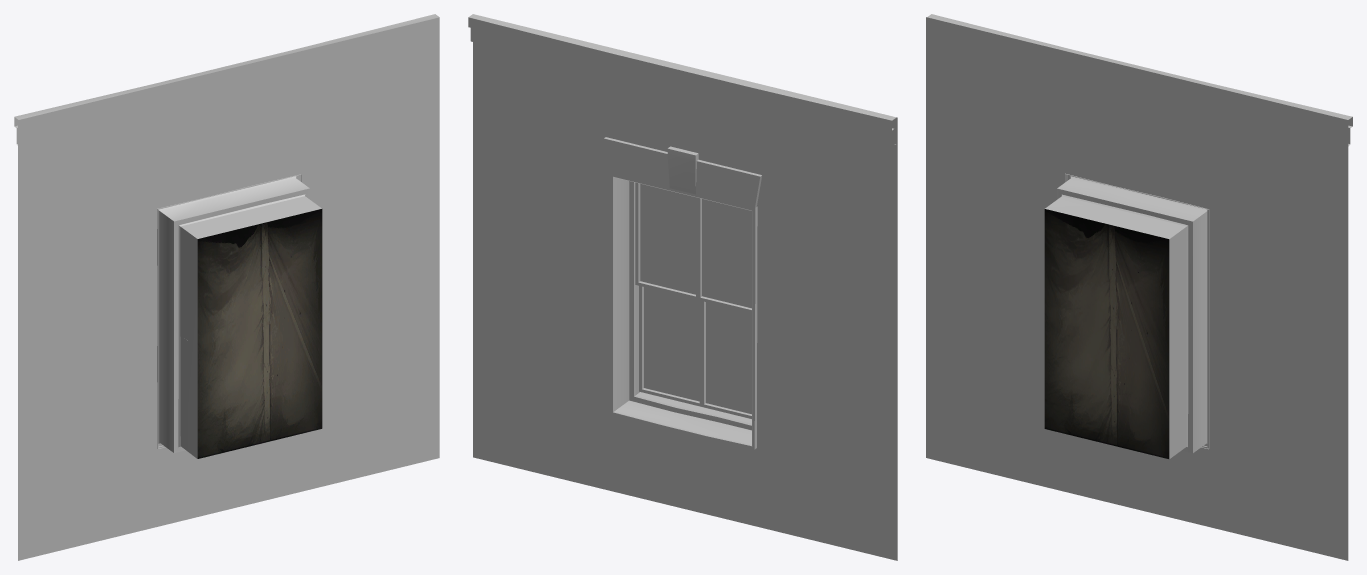
The model's file is streets_windows_4m_dirty_lit.dae.
3 renders of one model, left to right at view 1: azimuth 30°, elevation 25°; view 2: azimuth 150°, elevation 25°; view 3: azimuth 330°, elevation 25°, orthographic.
Visible parts, largest first — view 1: polySurface434, polySurface441, polySurface443; view 2: polySurface434, polySurface443, polySurface440; view 3: polySurface434, polySurface441, polySurface443.
Boxes of the visible parts, box(x1,y1,x2,y2) form: polySurface434: box(18, 17, 439, 560); polySurface441: box(197, 209, 322, 458); polySurface443: box(14, 14, 439, 458); polySurface434: box(473, 42, 897, 560); polySurface443: box(468, 14, 896, 449); polySurface440: box(640, 183, 751, 414); polySurface434: box(926, 17, 1348, 560); polySurface441: box(1044, 209, 1169, 458); polySurface443: box(927, 14, 1352, 458).
Bounding box in the file's own units: 4.01 × 4 × 0.5788.
